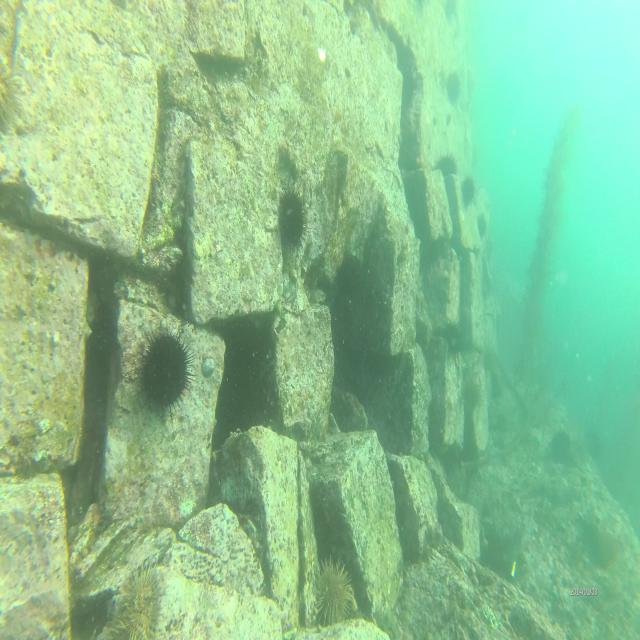echinus: (137, 322, 197, 422), (310, 549, 356, 633), (116, 561, 162, 640), (277, 180, 308, 258), (459, 374, 483, 419), (548, 427, 574, 468), (438, 321, 462, 362), (444, 67, 464, 111), (584, 425, 604, 466), (431, 149, 458, 176), (460, 172, 476, 209), (474, 212, 489, 240)
